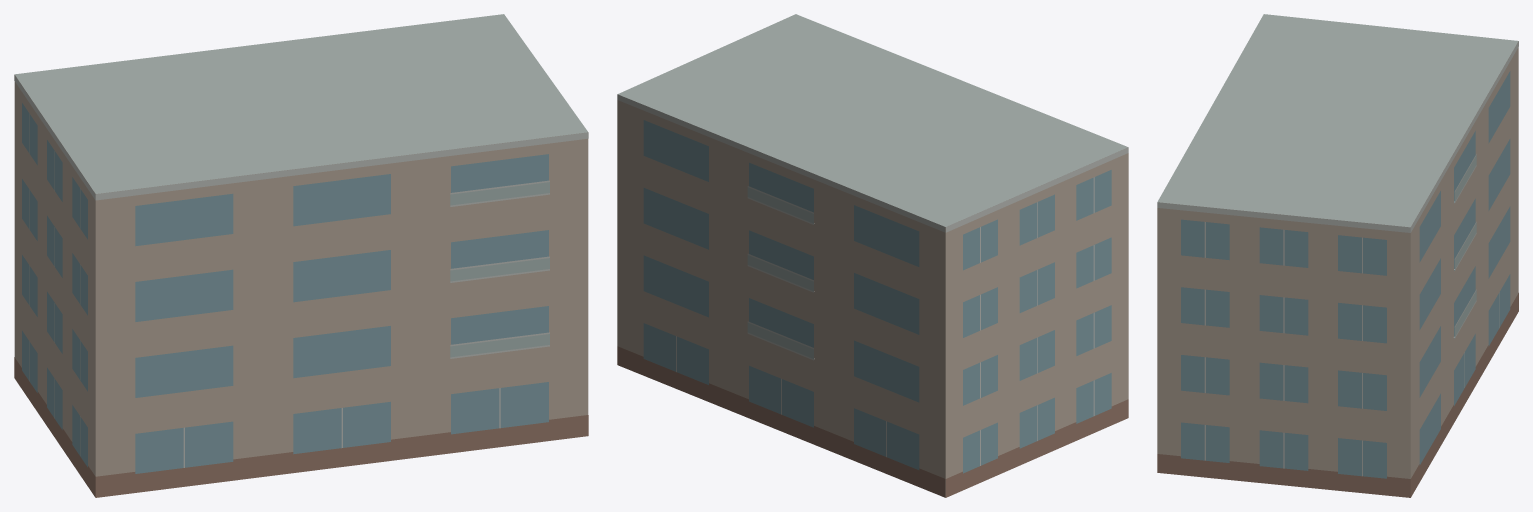
The model's file is survey-upis-32878449.glb.
The picture shows the model from 3 angles, left to right: view 1: azimuth 30°, elevation 25°; view 2: azimuth 150°, elevation 25°; view 3: azimuth 270°, elevation 25°; orthographic projection. The views are drawn at different scales.
Parts seen in each view (by area): view 1: survey-upis-32878449.tmp; view 2: survey-upis-32878449.tmp; view 3: survey-upis-32878449.tmp.
Part boxes in pixels (<box>): survey-upis-32878449.tmp: <box>14,14,588,497</box>; survey-upis-32878449.tmp: <box>617,14,1128,497</box>; survey-upis-32878449.tmp: <box>1157,14,1518,497</box>.
Size of the model in its own units: 19.63 by 11.6 by 14.06.
